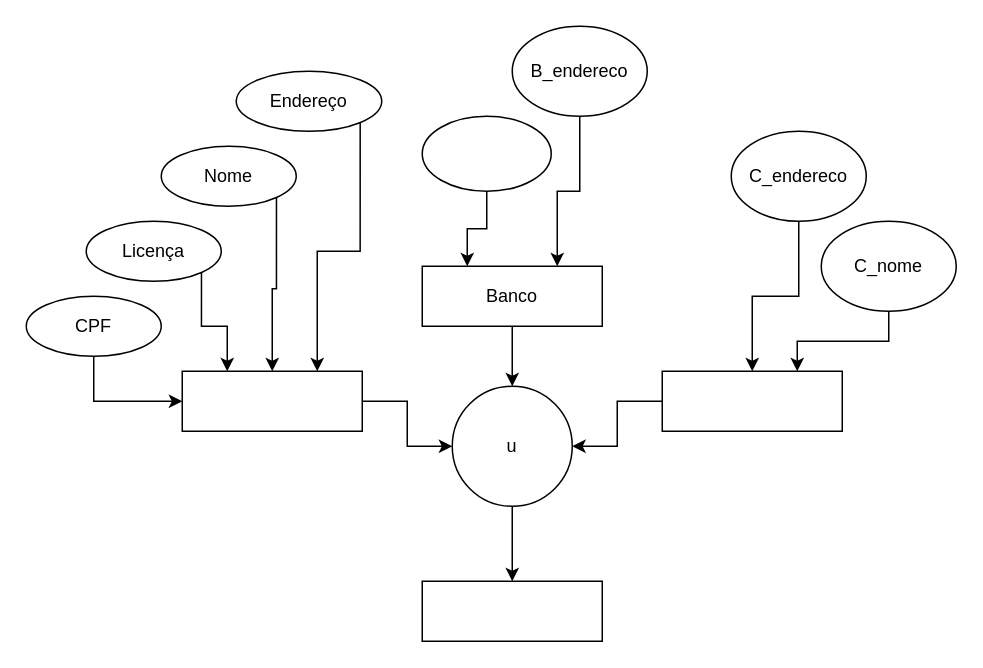
Image size: 983x668. Some labels were removed from this diagram. Here are the shapes that lost their labels. From the top down, the box of each, then its label:
(421, 115, 551, 191): B_nome
(181, 370, 362, 431): Pessoa
(661, 370, 842, 431): Company
(421, 580, 602, 641): Owner
